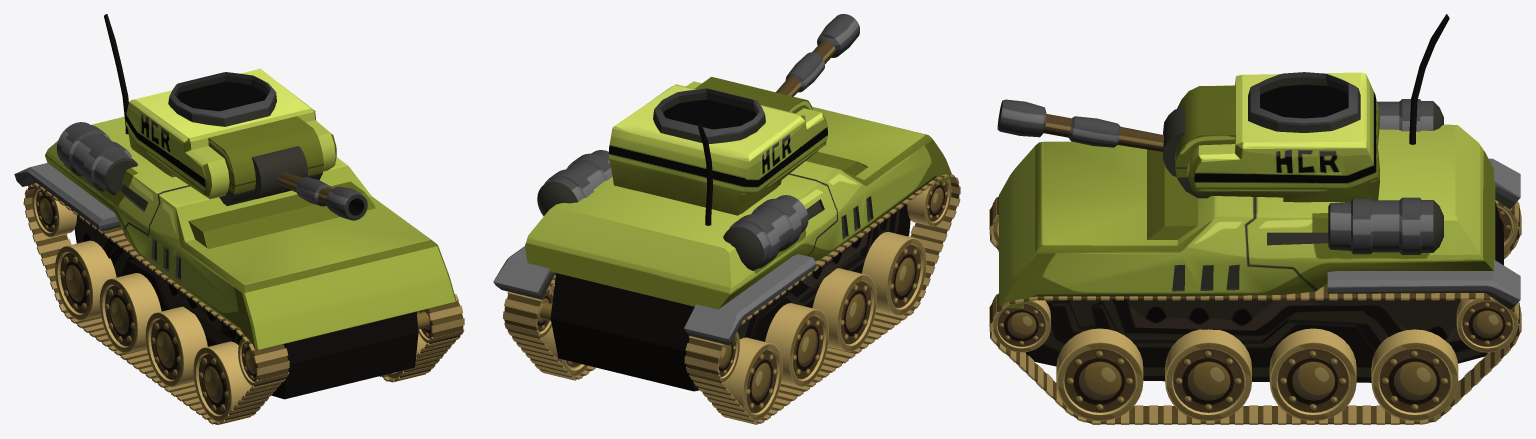
File: HCR2 Tank.fbx
The picture shows the model from 3 angles, left to right: view 1: azimuth 30°, elevation 25°; view 2: azimuth 150°, elevation 25°; view 3: azimuth 270°, elevation 25°; orthographic projection. The views are drawn at different scales.
Parts seen in each view (by area): view 1: HCR2_Tank_Body, HCR2_Tank_Tower, HCR2_Tank_Chassis, HCR2_Tank_RWheelTr, HCR2_Tank_Details, HCR2_Tank_RWheel_3, HCR2_Tank_RWheel_4, HCR2_Tank_RWheel_5, HCR2_Tank_RWheel_2, HCR2_Tank_LWheelTr, HCR2_Tank_Gun, HCR2_Tank_RWheel_6 (+2 smaller); view 2: HCR2_Tank_Body, HCR2_Tank_Tower, HCR2_Tank_Chassis, HCR2_Tank_Details, HCR2_Tank_RWheelTr, HCR2_Tank_RWheel_2, HCR2_Tank_RWheel_3, HCR2_Tank_RWheel_4, HCR2_Tank_RWheel_5, HCR2_Tank_LWheelTr, HCR2_Tank_Gun, HCR2_Tank_RWheel_1 (+4 smaller); view 3: HCR2_Tank_Body, HCR2_Tank_Tower, HCR2_Tank_Chassis, HCR2_Tank_Details, HCR2_Tank_LWheelTr, HCR2_Tank_LWheel_4, HCR2_Tank_LWheel_2, HCR2_Tank_LWheel_3, HCR2_Tank_LWheel_5, HCR2_Tank_Gun, HCR2_Tank_LWheel_6, HCR2_Tank_LWheel_1 (+3 smaller).
Boxes of the visible parts, x1=… form: HCR2_Tank_Body: x1=45, y1=116, x2=455, y2=350; HCR2_Tank_Tower: x1=125, y1=68, x2=336, y2=205; HCR2_Tank_Chassis: x1=74, y1=215, x2=418, y2=399; HCR2_Tank_RWheelTr: x1=23, y1=183, x2=289, y2=424; HCR2_Tank_Details: x1=14, y1=122, x2=137, y2=231; HCR2_Tank_RWheel_3: x1=145, y1=306, x2=207, y2=387; HCR2_Tank_RWheel_4: x1=99, y1=273, x2=161, y2=353; HCR2_Tank_RWheel_5: x1=55, y1=240, x2=116, y2=320; HCR2_Tank_RWheel_2: x1=193, y1=341, x2=252, y2=421; HCR2_Tank_LWheelTr: x1=380, y1=294, x2=464, y2=382; HCR2_Tank_Gun: x1=278, y1=172, x2=367, y2=220; HCR2_Tank_RWheel_6: x1=32, y1=187, x2=76, y2=237; HCR2_Tank_Body: x1=525, y1=106, x2=951, y2=309; HCR2_Tank_Tower: x1=609, y1=77, x2=827, y2=215; HCR2_Tank_Chassis: x1=550, y1=204, x2=910, y2=391; HCR2_Tank_Details: x1=493, y1=150, x2=816, y2=345; HCR2_Tank_RWheelTr: x1=684, y1=173, x2=960, y2=424; HCR2_Tank_RWheel_2: x1=862, y1=231, x2=926, y2=315; HCR2_Tank_RWheel_3: x1=812, y1=268, x2=876, y2=351; HCR2_Tank_RWheel_4: x1=765, y1=303, x2=828, y2=386; HCR2_Tank_RWheel_5: x1=723, y1=337, x2=782, y2=420; HCR2_Tank_LWheelTr: x1=503, y1=275, x2=595, y2=380; HCR2_Tank_Gun: x1=776, y1=14, x2=859, y2=96; HCR2_Tank_RWheel_1: x1=907, y1=179, x2=951, y2=226; HCR2_Tank_Body: x1=999, y1=124, x2=1495, y2=308; HCR2_Tank_Tower: x1=1163, y1=72, x2=1379, y2=202; HCR2_Tank_Chassis: x1=1025, y1=201, x2=1503, y2=382; HCR2_Tank_Details: x1=1327, y1=99, x2=1520, y2=309; HCR2_Tank_LWheelTr: x1=989, y1=284, x2=1521, y2=424; HCR2_Tank_LWheel_4: x1=1269, y1=328, x2=1356, y2=420; HCR2_Tank_LWheel_2: x1=1056, y1=328, x2=1143, y2=420; HCR2_Tank_LWheel_3: x1=1165, y1=329, x2=1251, y2=420; HCR2_Tank_LWheel_5: x1=1371, y1=329, x2=1458, y2=420; HCR2_Tank_Gun: x1=997, y1=99, x2=1163, y2=151; HCR2_Tank_LWheel_6: x1=1456, y1=299, x2=1518, y2=352; HCR2_Tank_LWheel_1: x1=992, y1=300, x2=1050, y2=352.
Size of the model in its own units: 212 by 254 by 379.
